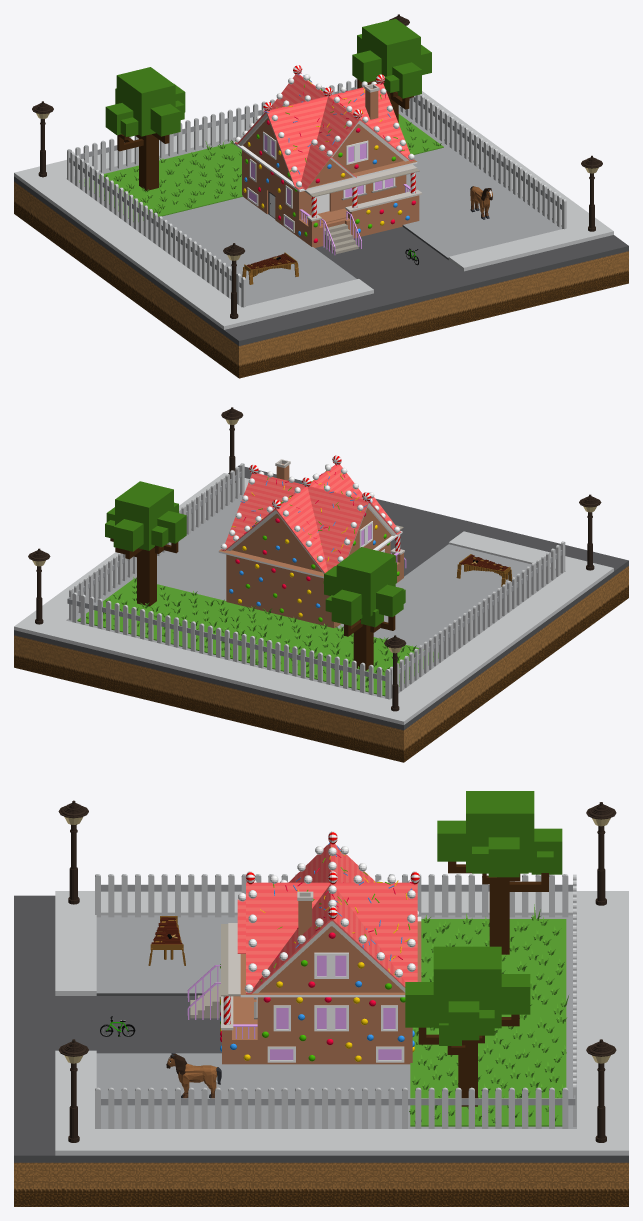
3 views of the same model, one above another, from view 1: azimuth 30°, elevation 25°; view 2: azimuth 150°, elevation 25°; view 3: azimuth 270°, elevation 25° (orthographic). The views are drawn at different scales.
Visible parts, largest first — view 1: Cube.004, Cube.1203, OBJRANDOM_MARIMBA, ANIMAL_CABALLO; view 2: Cube.004, Cube.1203, OBJRANDOM_MARIMBA; view 3: Cube.004, Cube.1203, ANIMAL_CABALLO, OBJRANDOM_MARIMBA.
Boxes of the visible parts, x1,y1,x2,y2 form: Cube.004: [14, 14, 628, 378]; Cube.1203: [233, 65, 422, 255]; OBJRANDOM_MARIMBA: [242, 252, 298, 284]; ANIMAL_CABALLO: [470, 186, 492, 219]; Cube.004: [14, 407, 628, 762]; Cube.1203: [218, 455, 406, 627]; OBJRANDOM_MARIMBA: [456, 554, 512, 586]; Cube.004: [14, 791, 628, 1206]; Cube.1203: [187, 831, 421, 1064]; ANIMAL_CABALLO: [166, 1053, 221, 1098]; OBJRANDOM_MARIMBA: [148, 916, 185, 965].
Size of the model in its own units: 4000 by 1610 by 4000.
42 materials, 4 textured.
